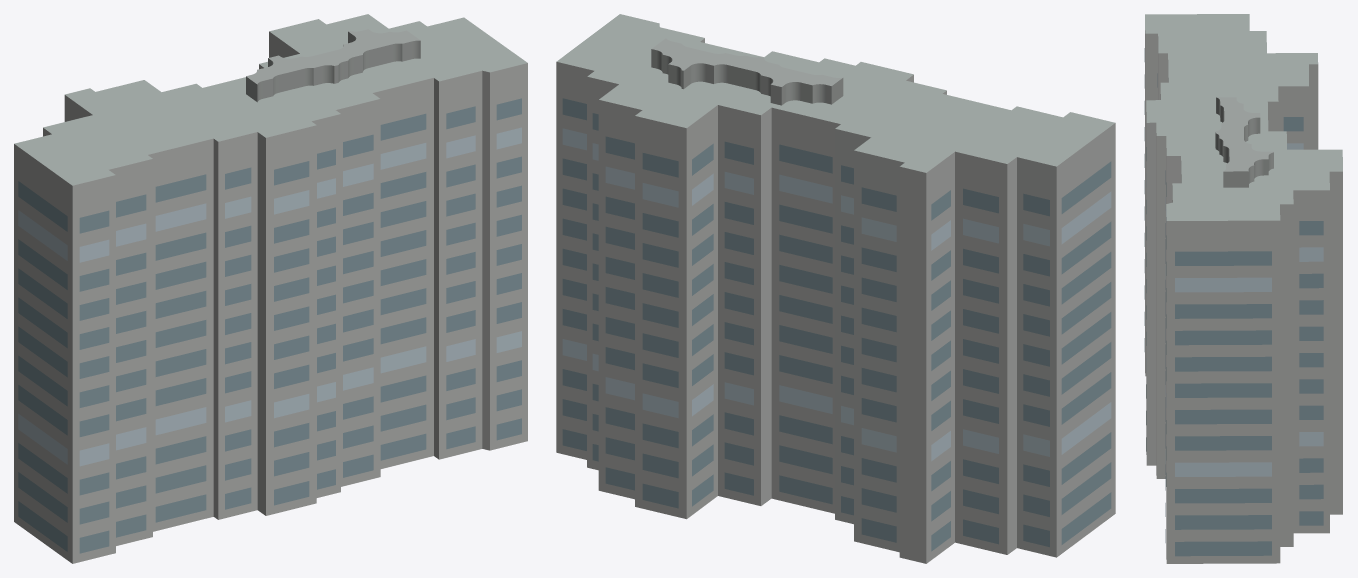
Rendered from fallback-godeok-arteon-324.glb.
3 renders of one model, left to right at view 1: azimuth 30°, elevation 25°; view 2: azimuth 150°, elevation 25°; view 3: azimuth 270°, elevation 25°, orthographic. The views are drawn at different scales.
Visible parts, largest first — view 1: fallback-godeok-arteon-324; view 2: fallback-godeok-arteon-324; view 3: fallback-godeok-arteon-324.
Boxes of the visible parts, left/top/right/bottom form: fallback-godeok-arteon-324: left=14, top=14, right=527, bottom=563; fallback-godeok-arteon-324: left=556, top=14, right=1115, bottom=563; fallback-godeok-arteon-324: left=1144, top=14, right=1342, bottom=563.
Size of the model in its own units: 49.56 by 40 by 20.09.
